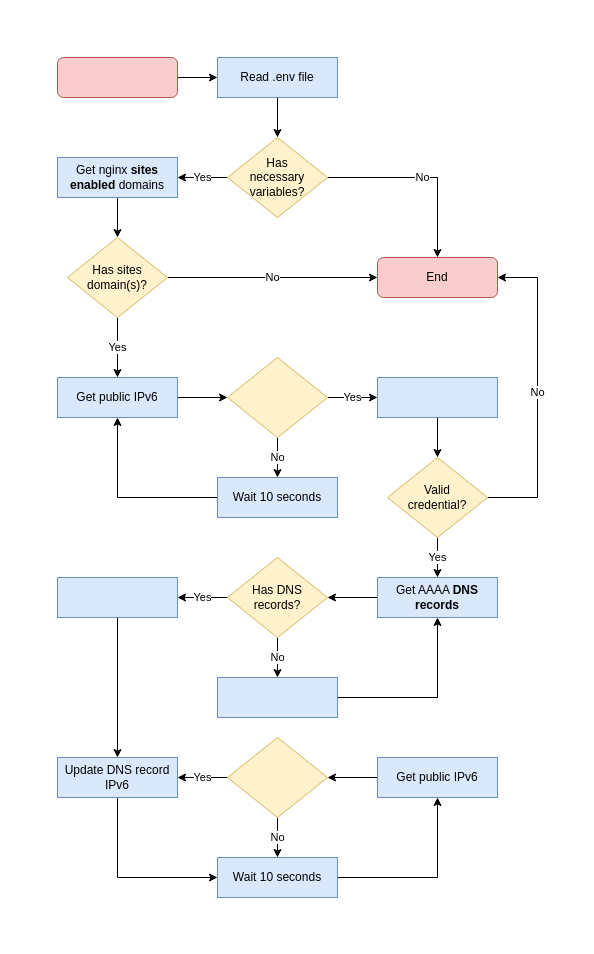
The diagram is 594 pixels wide and 954 high, and some of its shapes have lost their labels. Each missing label, with the centre of its shape:
"Get sites enabled DNS record" goes at point 117,597.
"Has public IP?" goes at point 277,397.
"IPv6 changed?" goes at point 277,777.
"Start" goes at point 117,77.
"Verify CloudFlare API credentials" goes at point 437,397.
"Wait 20 seconds" goes at point 277,697.
